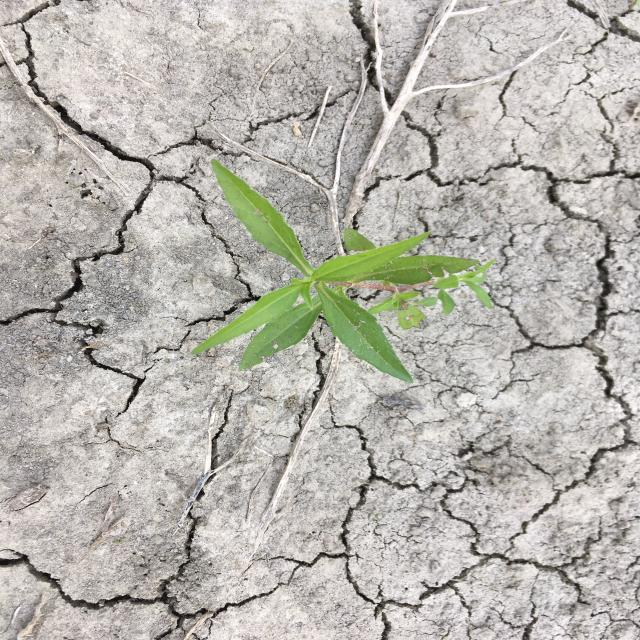Eclipta: (188, 158, 498, 385)
